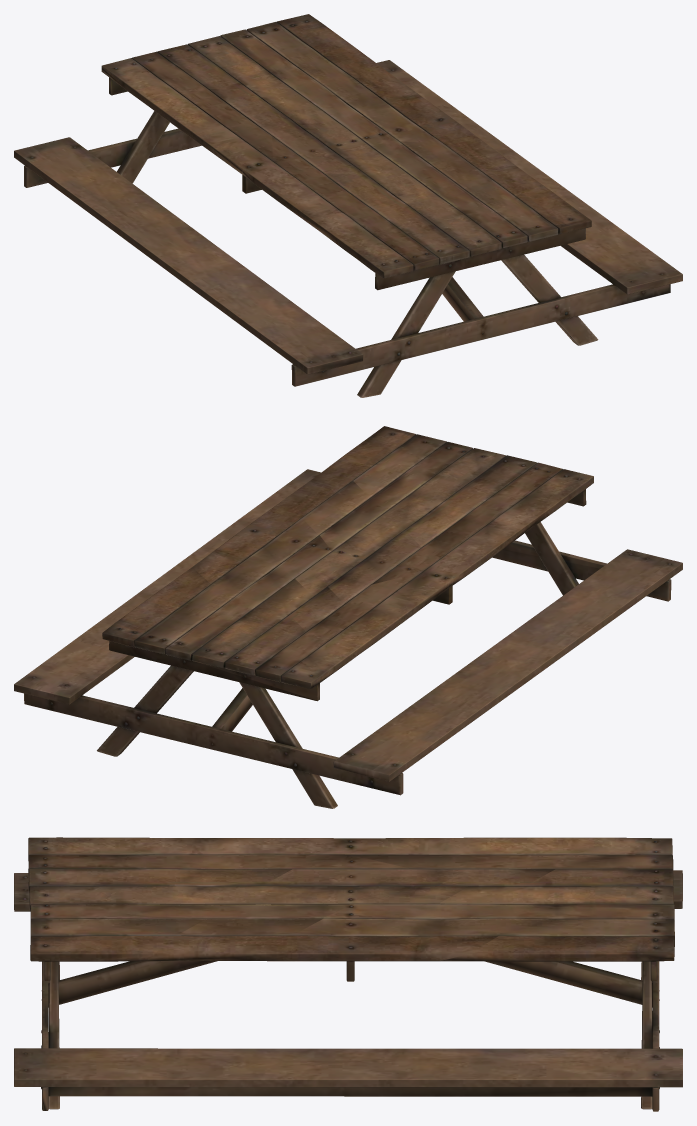
Rendered from wooden_picnic_table.glb.
3 renders of one model, top to bottom at view 1: azimuth 30°, elevation 25°; view 2: azimuth 150°, elevation 25°; view 3: azimuth 270°, elevation 25°, orthographic. The views are drawn at different scales.
Visible parts, largest first — view 1: wooden_picnic_table; view 2: wooden_picnic_table; view 3: wooden_picnic_table.
Part boxes in pixels (x1,y1,x2,y2): wooden_picnic_table: [14, 14, 682, 397]; wooden_picnic_table: [14, 426, 682, 808]; wooden_picnic_table: [14, 837, 682, 1111].
Bounding box in the file's own units: 2.24 × 0.746 × 3.02.
Materials: 2 (2 with a texture image).
